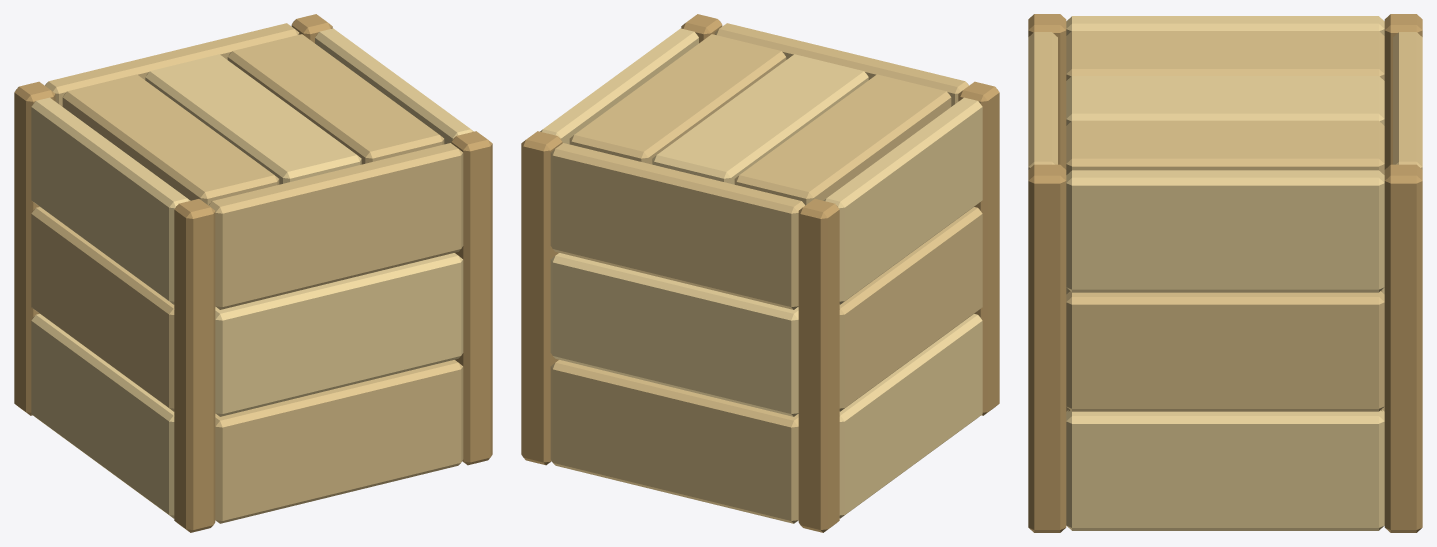
File: FTF_Prop_WoodenCrate_1m_Cube.glb
3 views of the same model, side by side, from view 1: azimuth 30°, elevation 25°; view 2: azimuth 150°, elevation 25°; view 3: azimuth 270°, elevation 25° (orthographic). The views are drawn at different scales.
Visible parts, largest first — view 1: Crate_BackFrontBack_0_1, Crate_BackFrontBack_1_1, Crate_CornerBatten; view 2: Crate_BackFrontBack_0_1, Crate_BackFrontBack_1_1, Crate_CornerBatten; view 3: Crate_BackFrontBack_1_1, Crate_BackFrontBack_0_1, Crate_CornerBatten.
Part boxes in pixels (left/top/right/bottom): Crate_BackFrontBack_0_1: left=31, top=23, right=463, bottom=523; Crate_BackFrontBack_1_1: left=31, top=28, right=473, bottom=518; Crate_CornerBatten: left=14, top=14, right=492, bottom=532; Crate_BackFrontBack_0_1: left=550, top=23, right=982, bottom=523; Crate_BackFrontBack_1_1: left=540, top=28, right=982, bottom=518; Crate_CornerBatten: left=521, top=14, right=999, bottom=532; Crate_BackFrontBack_1_1: left=1066, top=16, right=1384, bottom=530; Crate_BackFrontBack_0_1: left=1028, top=31, right=1422, bottom=411; Crate_CornerBatten: left=1028, top=14, right=1422, bottom=532.
Bounding box in the file's own units: 1 × 1 × 1.
